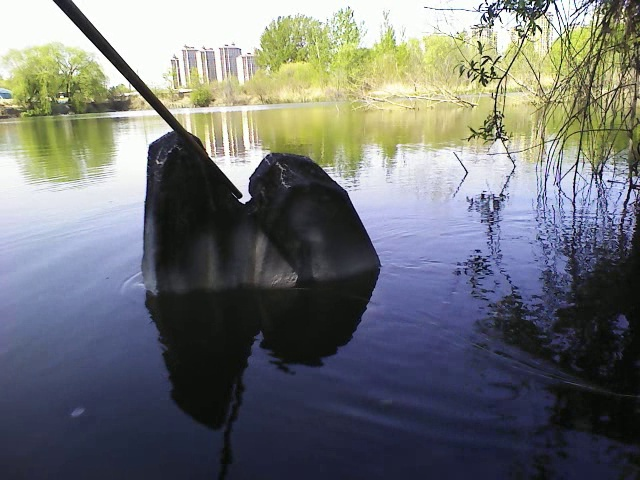rock: (136, 125, 385, 286)
